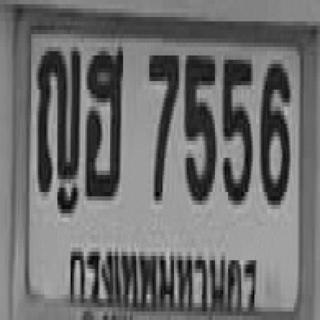A13: (36, 43, 79, 192)
A44: (84, 43, 123, 196)
N05: (184, 51, 215, 200), (222, 56, 251, 200)
N06: (259, 60, 289, 201)
N07: (148, 51, 177, 196)
P04: (66, 242, 263, 320)
